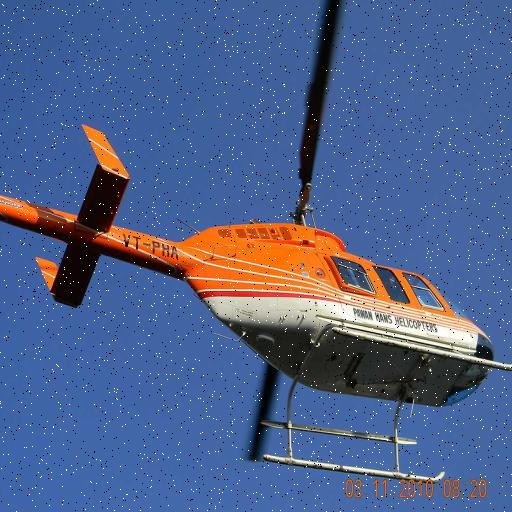helicopter: (1, 7, 512, 498)
